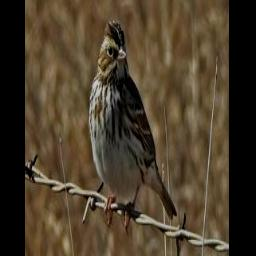Sparrow: (85, 18, 178, 234)
